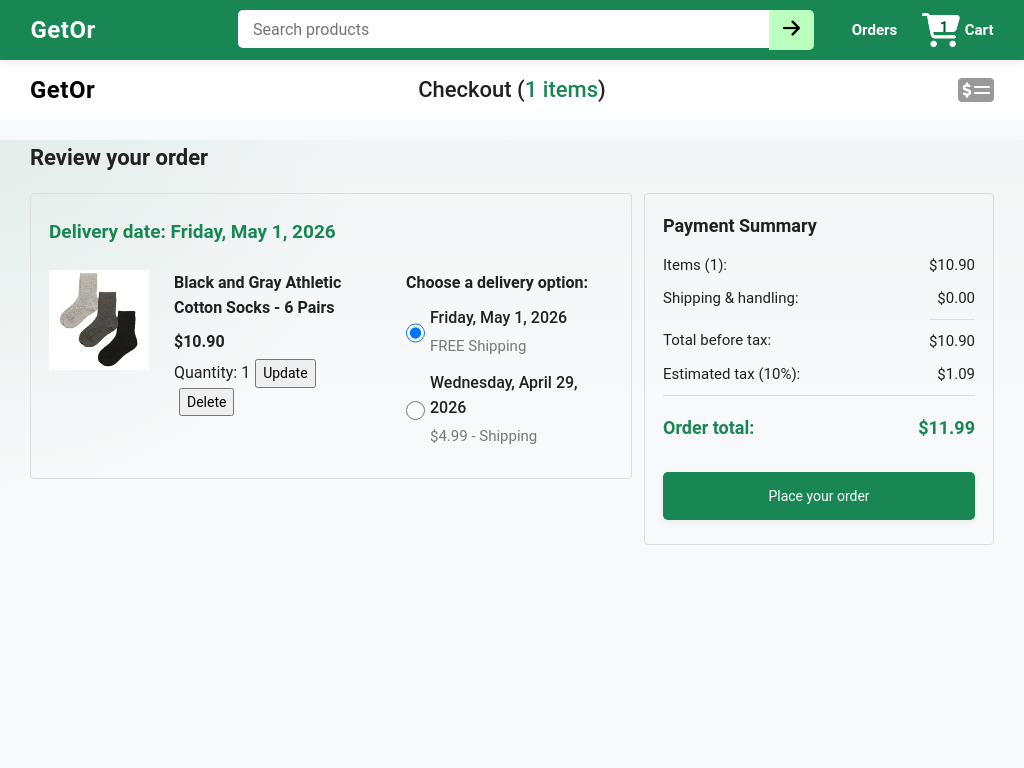
it: Checkout › deletes an item from the checkout page
The image size is (1024, 768).
Expected: the text "Black and Gray Athletic Cotton Socks - 6 Pairs" is shown, [174, 273, 341, 317]
Click the button "Delete" at x=207, y=402, box [179, 388, 234, 416]
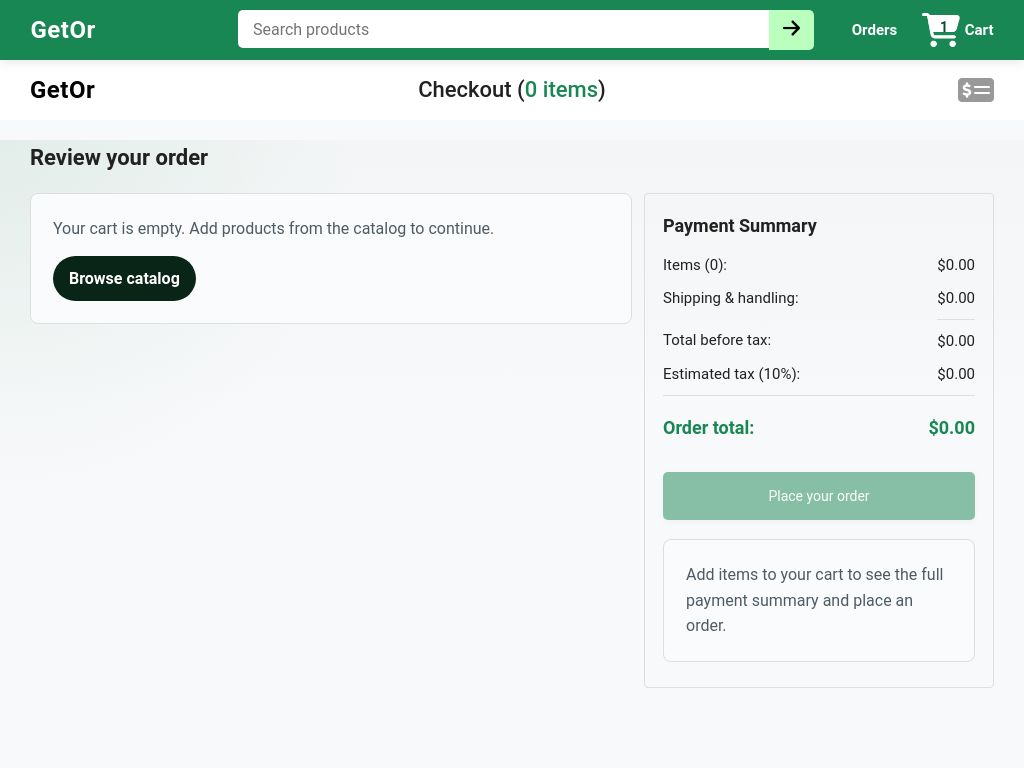
Now the text "Black and Gray Athletic Cotton Socks - 6 Pairs" is gone
